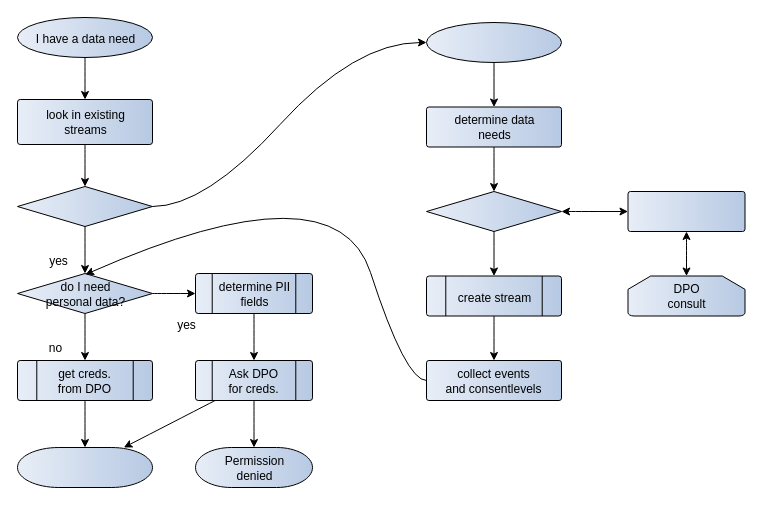
Some shapes in this 763 by 505 pixel diagram are drawn without their labels. Each missing label, with the box of its shape:
create new stream: (426, 22, 562, 62)
create schema and event-contract: (627, 190, 745, 232)
new event-contract needed?: (426, 190, 562, 232)
start using: (16, 446, 152, 488)
stream exists?: (16, 186, 152, 226)
